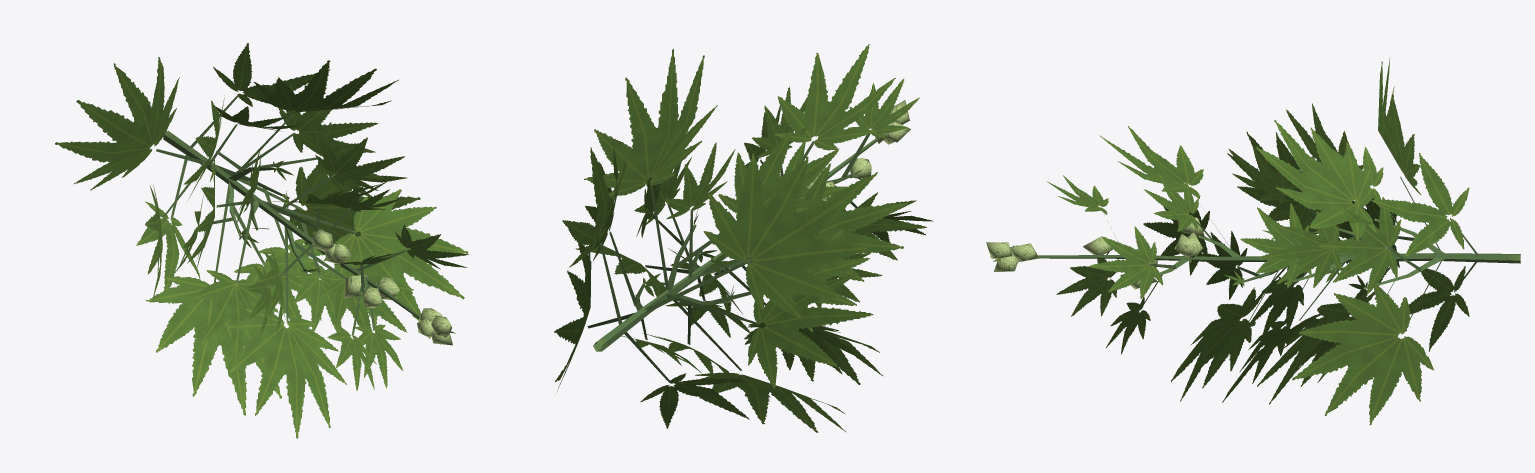
Rendered from p_male_haze_preflower_c0_cards.obj.
3 views of the same model, side by side, from view 1: azimuth 30°, elevation 25°; view 2: azimuth 150°, elevation 25°; view 3: azimuth 270°, elevation 25° (orthographic). The views are drawn at different scales.
Size of the model in its own units: 1.32 by 1.21 by 1.58.
Materials: 1 (1 with a texture image).
